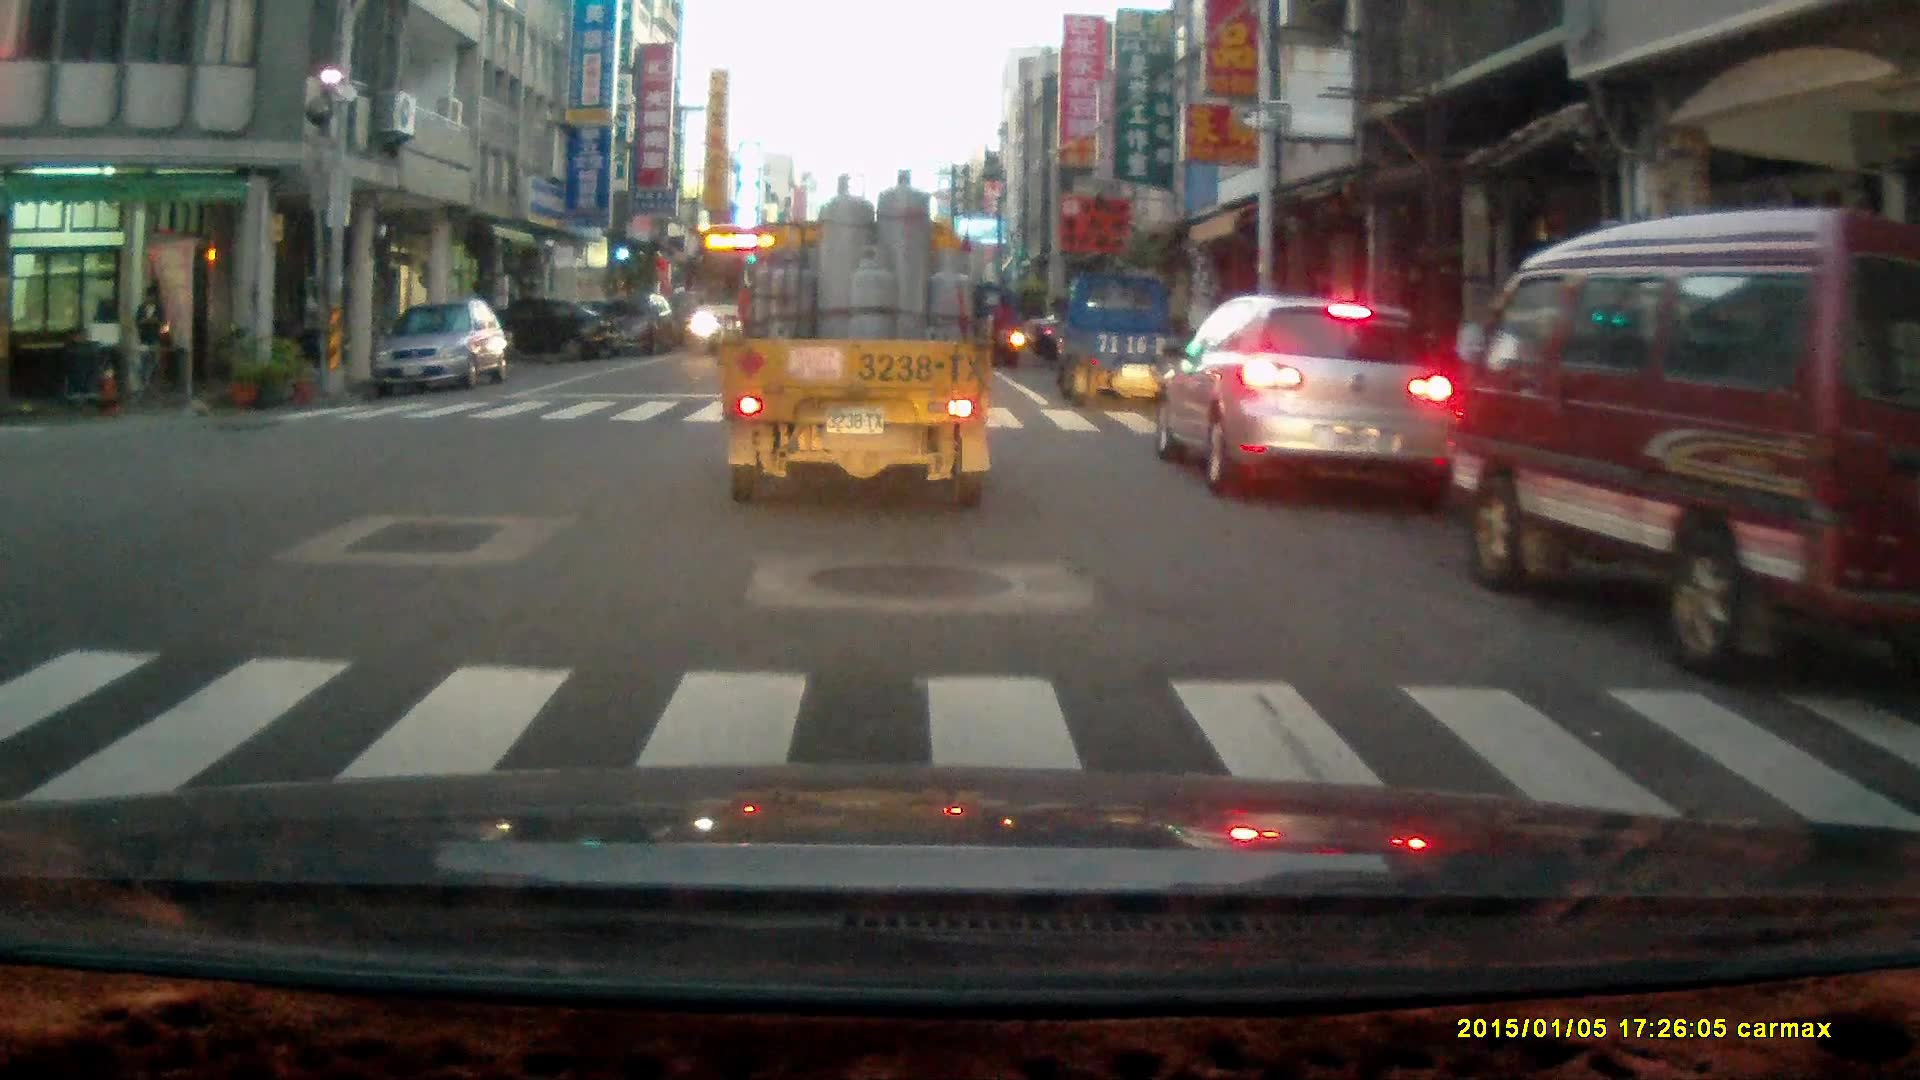pedestrian: (131, 282, 168, 405)
vehicle: (1447, 207, 1920, 686), (721, 171, 995, 515), (1158, 288, 1453, 499), (1054, 272, 1199, 413), (365, 300, 509, 393), (451, 293, 615, 363), (582, 286, 678, 354)
